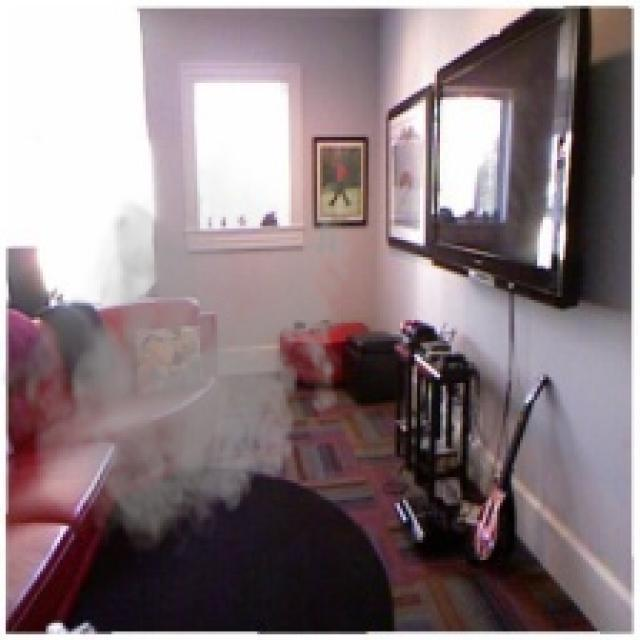Smoke: (0, 143, 360, 566)
